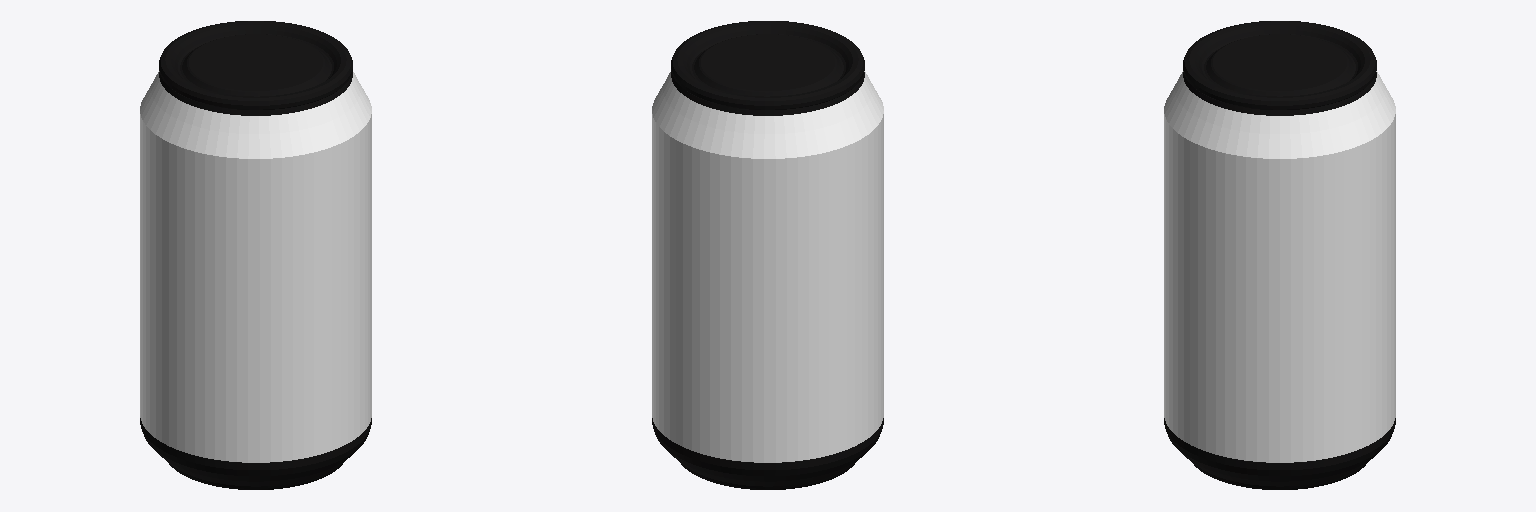
File: can.obj
3 views of the same model, side by side, from view 1: azimuth 30°, elevation 25°; view 2: azimuth 150°, elevation 25°; view 3: azimuth 270°, elevation 25° (orthographic).
Parts seen in each view (by area): view 1: Cola_Can_Cylinder; view 2: Cola_Can_Cylinder; view 3: Cola_Can_Cylinder.
Boxes of the visible parts, <box> form: Cola_Can_Cylinder: <box>140,21,371,489</box>; Cola_Can_Cylinder: <box>652,21,883,489</box>; Cola_Can_Cylinder: <box>1164,21,1395,489</box>.
Size of the model in its own units: 8.57 by 16.01 by 8.57.